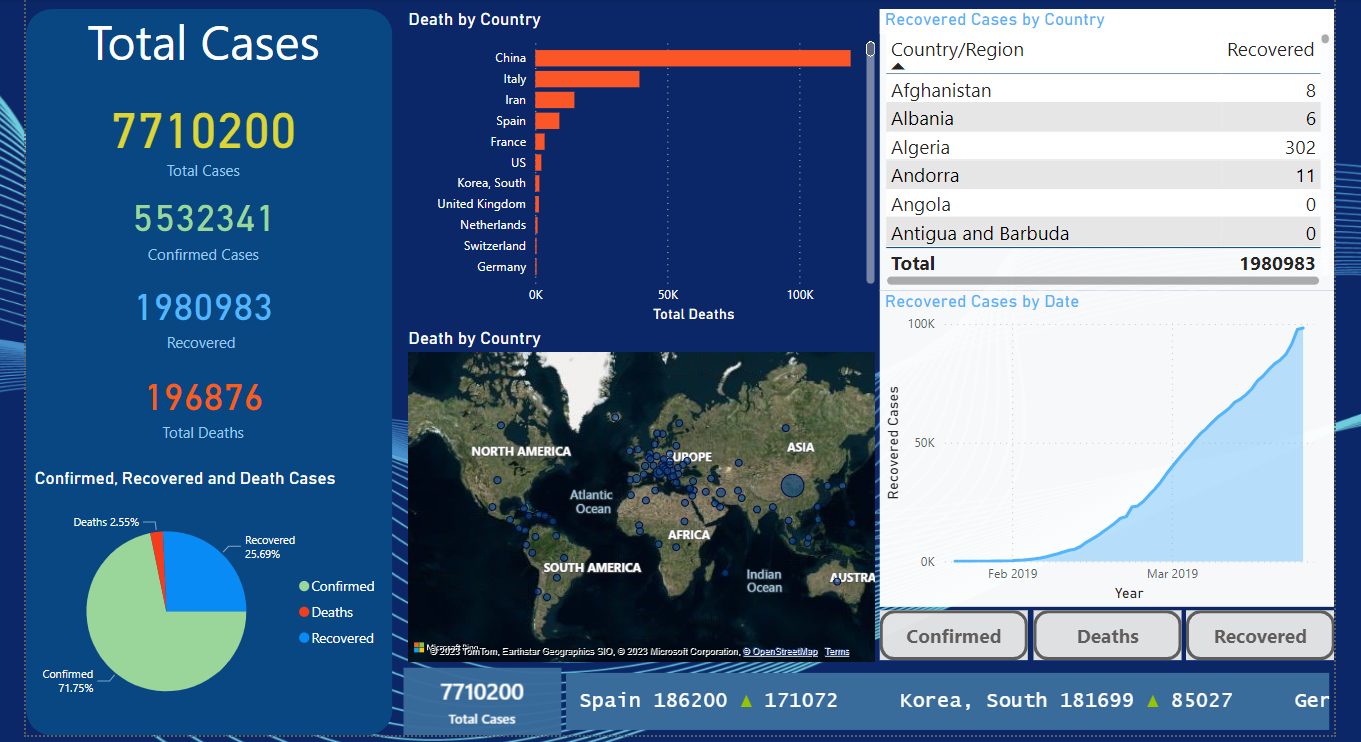

What the dashboard file says about the page in this screenshot:
{"tool":"powerbi","page":{"name":"Page 1","canvas":[1280,720],"ordinal":0},"visuals":[{"type":"shape","box":[0,9.8,358.2,710.2],"z":0},{"type":"actionButton","box":[0,0,347.2,80.7],"z":1000},{"type":"card","fields":{"Values":["Country.Total_Cases"]},"box":[6.1,80.7,334.9,103.9],"z":2000},{"type":"card","fields":{"Values":["Sum(Confirm-Cases.Confirmed)"]},"box":[6.1,168.3,334.9,103.9],"z":3000},{"type":"card","fields":{"Values":["Sum(Recovered-Cases.Recovered)"]},"box":[6.1,255.9,334.9,103.9],"z":4000},{"type":"card","fields":{"Values":["Sum(Death-Cases.Death)"]},"box":[6.1,343.5,334.9,103.9],"z":5000},{"type":"pieChart","title":"Confirmed, Recovered and Death Cases","fields":{"Y":["Sum(Confirm-Cases.Confirmed)","Sum(Death-Cases.Death)","Sum(Recovered-Cases.Recovered)"]},"box":[3.7,458.4,352.1,261.6],"z":6000},{"type":"clusteredBarChart","title":"Death by Country","fields":{"Category":["Country.Country/Region"],"Y":["Sum(Death-Cases.Death)"]},"box":[369.2,9.8,465.7,311.7],"z":7000},{"type":"map","title":"Death by Country","fields":{"Size":["Sum(Death-Cases.Death)"],"Category":["Country.Country/Region"]},"box":[369.2,321.5,465.7,332.5],"z":8000},{"type":"tableEx","title":"Recovered Cases by Country","fields":{"Values":["Recovered-Cases.Country/Region","Sum(Recovered-Cases.Recovered)"]},"box":[834.9,9.8,445,275],"z":11000},{"type":"areaChart","title":"Recovered Cases by Date","fields":{"Y":["Sum(Recovered-Cases.Recovered)"],"Category":["Recovered-Cases.Date.Variation.Date Hierarchy.Year","Recovered-Cases.Date.Variation.Date Hierarchy.Quarter","Recovered-Cases.Date.Variation.Date Hierarchy.Month","Recovered-Cases.Date.Variation.Date Hierarchy.Day"]},"box":[834.9,284.8,445,309.3],"z":12000},{"type":"actionButton","box":[834.9,597.8,145,48.9],"z":15000},{"type":"actionButton","box":[984.7,597.8,145,48.9],"z":16000},{"type":"actionButton","box":[1134.4,597.8,145.5,48.9],"z":17000},{"type":"ScrollingTextVisual1448795304508","fields":{"Category":["Confirm-Cases.Country/Region"],"Measure Absolute":["Sum(Confirm-Cases.Confirmed)"],"Measure Deviation":["Country.Increase"]},"box":[523.2,654,756.7,66],"z":18000},{"type":"rotatingTile1859AB39DB23400988ADF752BCB9C967","fields":{"measureData":["Country.Total_Cases","Sum(Confirm-Cases.Confirmed)","Sum(Recovered-Cases.Recovered)","Sum(Death-Cases.Death)"]},"box":[369.2,654,154,66],"z":19000}]}

Visuals, with their boxes on the page's 1280x720 design canvas (x1, y1, x2, y2). These are canvas units, not pixel positions in the 1361x742 screenshot, which may show the page scaled, cropped or inside an application window:
shape: bbox(0, 10, 358, 720)
actionButton: bbox(0, 0, 347, 81)
card - Country.Total_Cases: bbox(6, 81, 341, 185)
card - Sum(Confirm-Cases.Confirmed): bbox(6, 168, 341, 272)
card - Sum(Recovered-Cases.Recovered): bbox(6, 256, 341, 360)
card - Sum(Death-Cases.Death): bbox(6, 344, 341, 447)
"Confirmed, Recovered and Death Cases" pieChart: bbox(4, 458, 356, 720)
"Death by Country" clusteredBarChart: bbox(369, 10, 835, 322)
"Death by Country" map: bbox(369, 322, 835, 654)
"Recovered Cases by Country" tableEx: bbox(835, 10, 1280, 285)
"Recovered Cases by Date" areaChart: bbox(835, 285, 1280, 594)
actionButton: bbox(835, 598, 980, 647)
actionButton: bbox(985, 598, 1130, 647)
actionButton: bbox(1134, 598, 1280, 647)
ScrollingTextVisual1448795304508 - Confirm-Cases.Country/Region x Sum(Confirm-Cases.Confirmed): bbox(523, 654, 1280, 720)
rotatingTile1859AB39DB23400988ADF752BCB9C967 - Country.Total_Cases x Sum(Confirm-Cases.Confirmed): bbox(369, 654, 523, 720)
